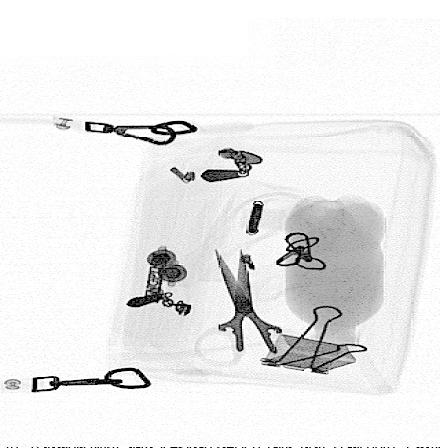Scissors: (195, 248, 296, 369)
